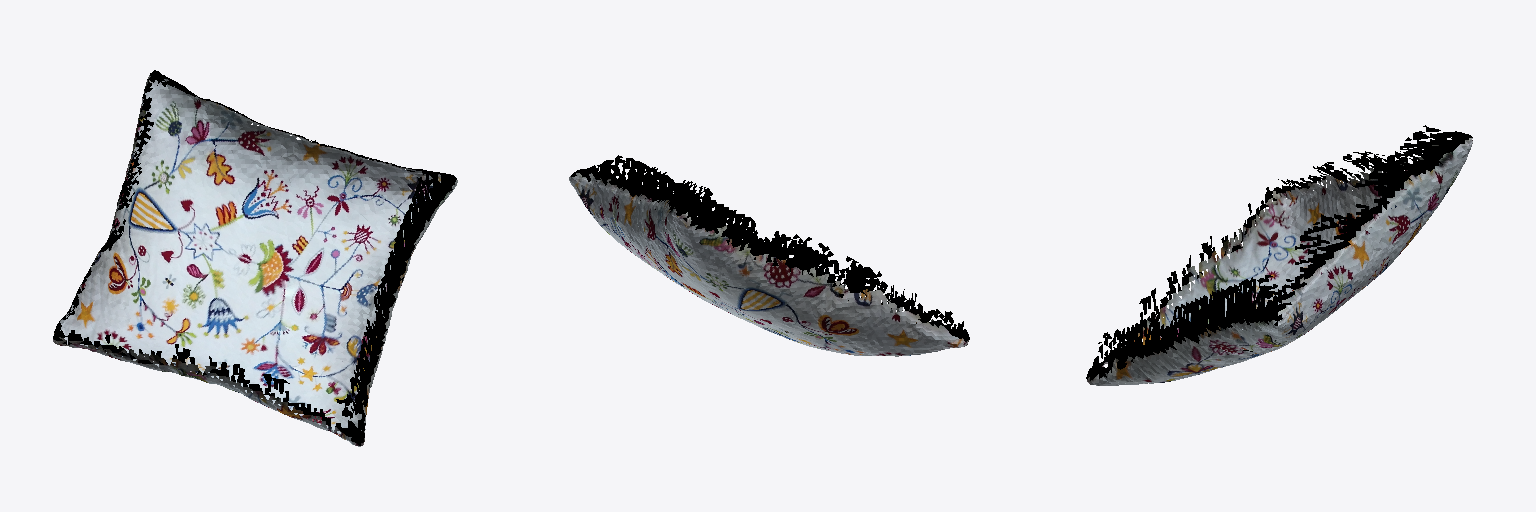
The picture shows the model from 3 angles: view 1: azimuth 30°, elevation 25°; view 2: azimuth 150°, elevation 25°; view 3: azimuth 270°, elevation 25°; orthographic projection.
Bounding box in the file's own units: 0.8309 × 0.4908 × 0.695.
Materials: 1 (1 with a texture image).